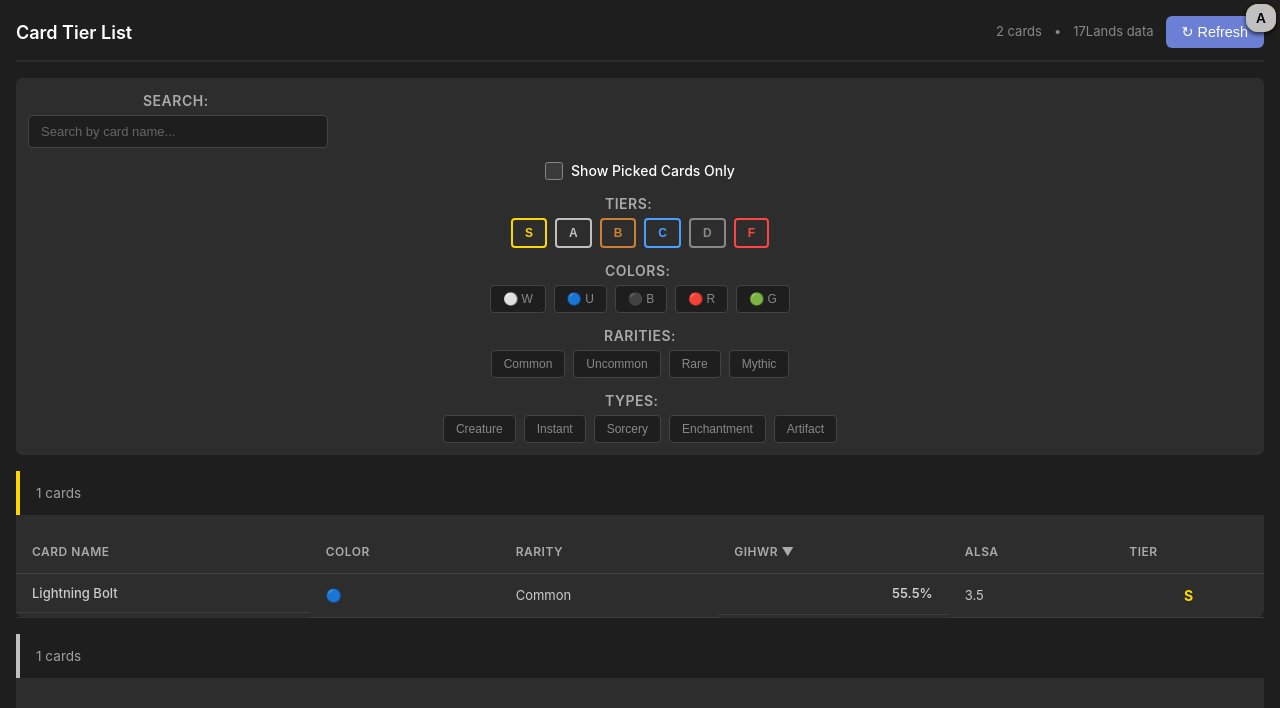
TierList Component › Search Functionality › should clear search when clear button is clicked
The width and height of the screenshot is (1280, 708).
Check: the text "Lightning Bolt" is shown, box x1=16 y1=576 x2=310 y2=613
Note: Search for "lightning"
Type "lightning" into the field with placeholder "Search by card name..." at (178, 132), box x1=28 y1=115 x2=328 y2=148
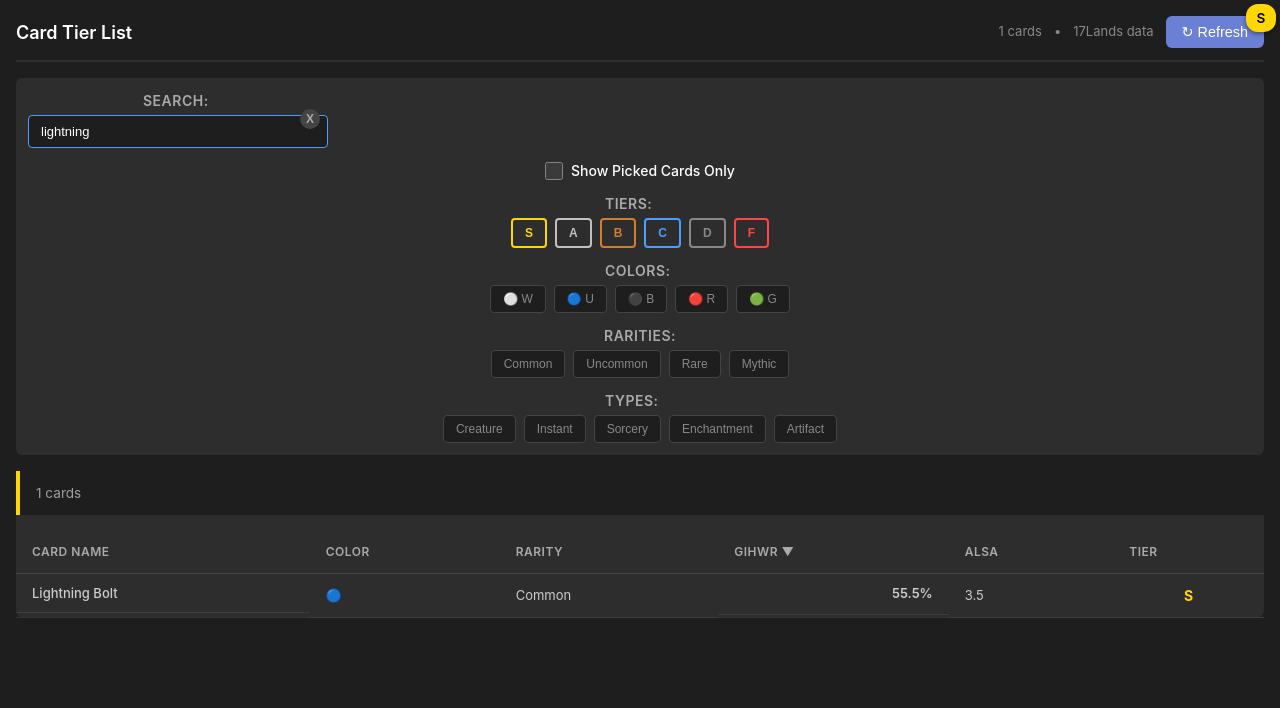
Check: the text "Lightning Bolt" is shown, box x1=16 y1=576 x2=310 y2=613
Note: Click clear button
Click the button titled "Clear search" at (310, 119), box x1=300 y1=109 x2=320 y2=129
(page scrolled)
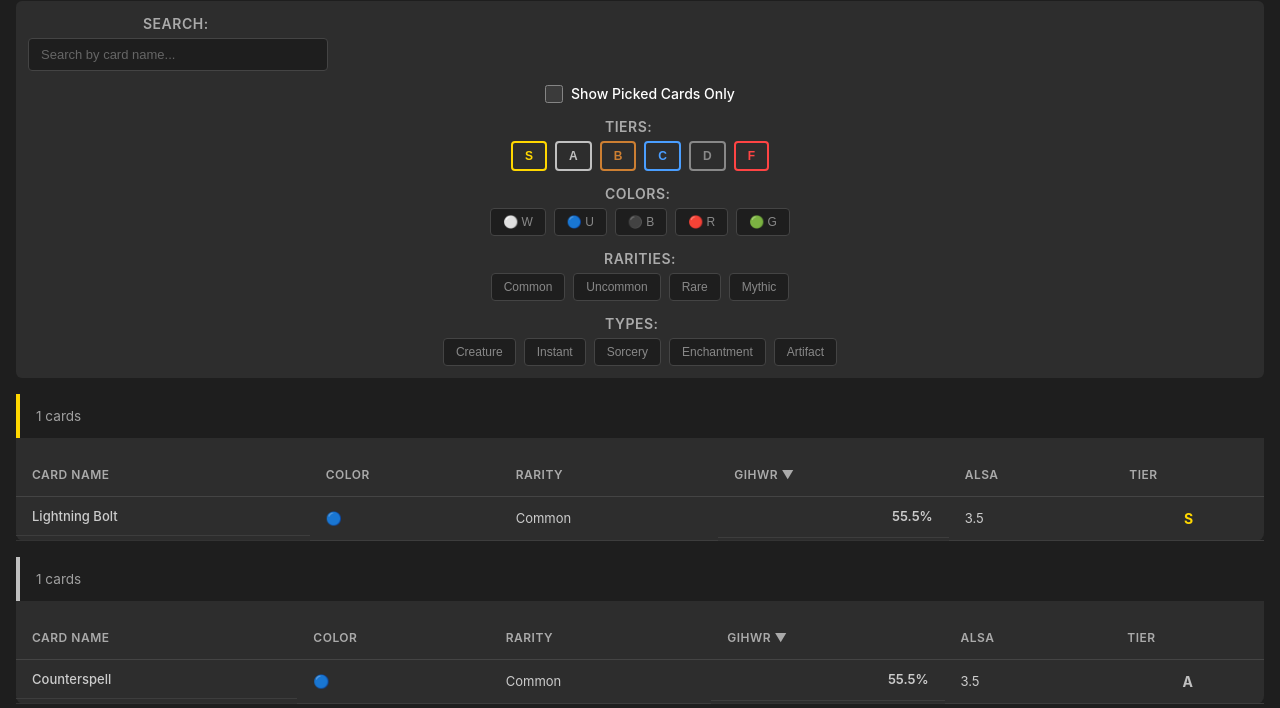
Check: the text "Lightning Bolt" is shown, box x1=16 y1=499 x2=310 y2=536
Check: the text "Counterspell" is shown, box x1=16 y1=662 x2=297 y2=699
